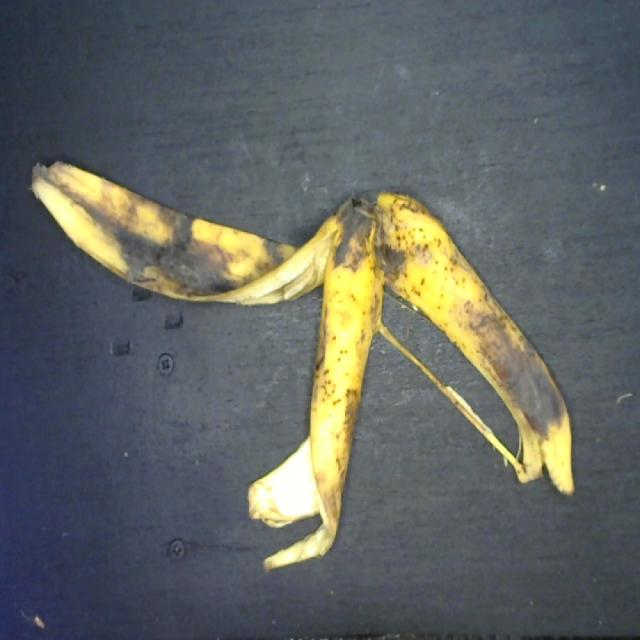biodegradable: (24, 146, 582, 576)
